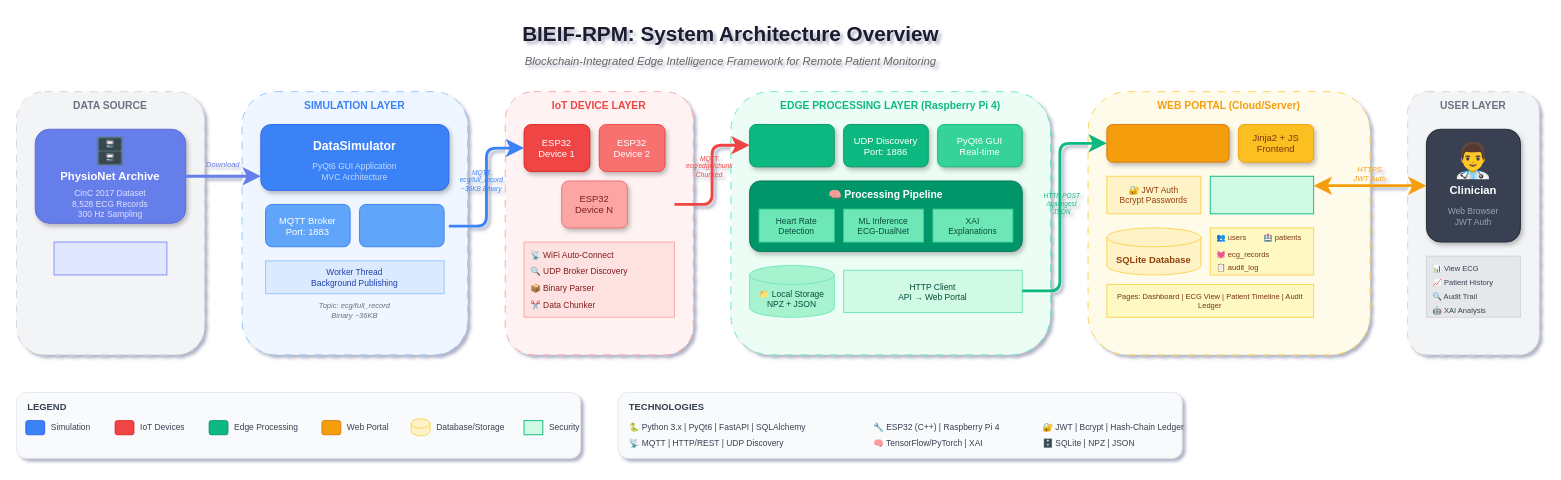
Some shapes in this 1561 by 480 pixel diagram are drawn without their labels. Here are the shapes that lost their labels. From the top down, the centre of each, then its label:
At point 792,146: "MQTT Broker Port: 1885".
At point 1168,144: "FastAPI Backend".
At point 1261,194: "🔗 Cryptographic Audit Ledger".
At point 401,225: "UDP Discovery Port: 1884".
At point 110,258: ".mat + .hea files REFERENCE.csv".
